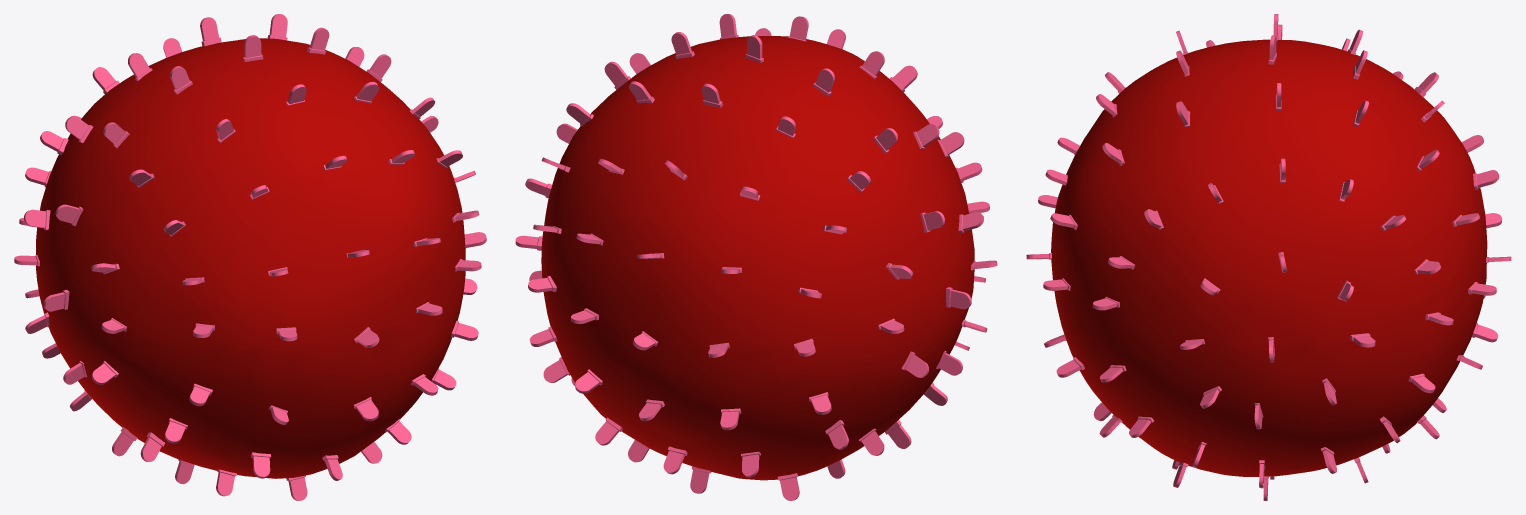
Rendered from PLANET 4_6.fbx.
The picture shows the model from 3 angles, left to right: view 1: azimuth 30°, elevation 25°; view 2: azimuth 150°, elevation 25°; view 3: azimuth 270°, elevation 25°; orthographic projection.
Parts seen in each view (by area): view 1: planet 4; view 2: planet 4; view 3: planet 4.
Boxes of the visible parts, x1,y1,x2,y2 form: planet 4: [36, 38, 465, 478]; planet 4: [541, 36, 974, 480]; planet 4: [1051, 39, 1487, 476].
Size of the model in its own units: 4252 by 4272 by 4245.
